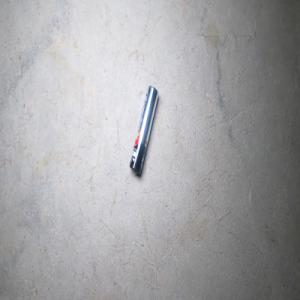Battery: (129, 85, 158, 176)
